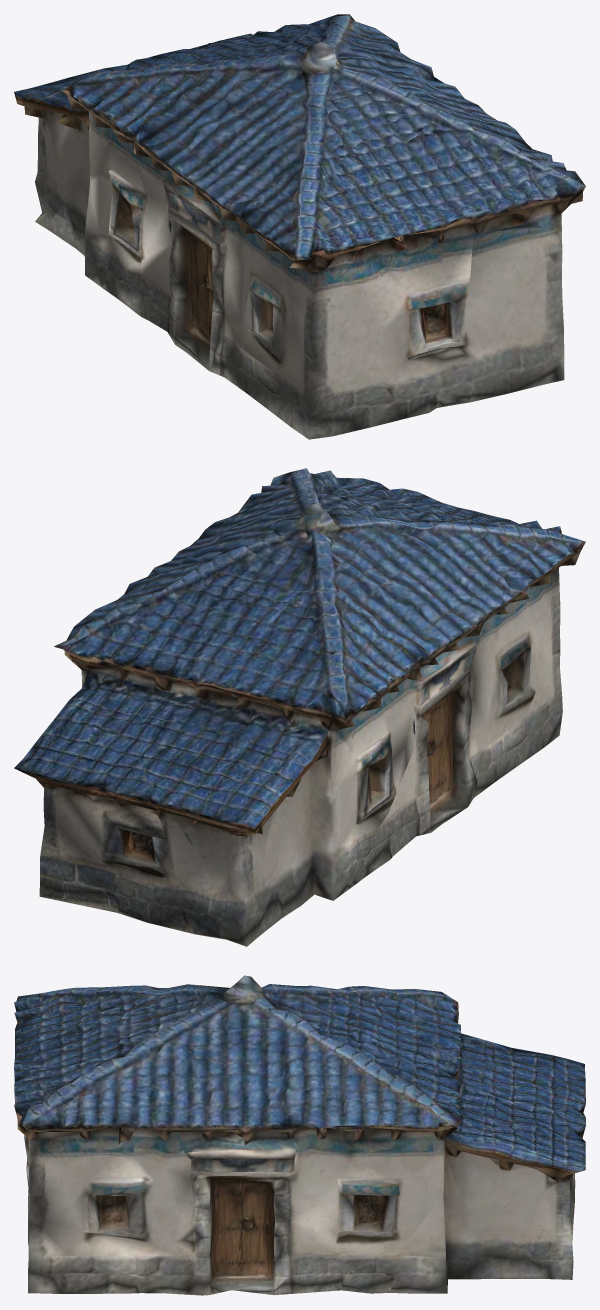
Rendered from house_generic_d.glb.
3 renders of one model, top to bottom at view 1: azimuth 30°, elevation 25°; view 2: azimuth 150°, elevation 25°; view 3: azimuth 270°, elevation 25°, orthographic. The views are drawn at different scales.
Parts seen in each view (by area): view 1: tripo_node_da5bad59-9eec-423f-bd8d-223ee4fc1f99; view 2: tripo_node_da5bad59-9eec-423f-bd8d-223ee4fc1f99; view 3: tripo_node_da5bad59-9eec-423f-bd8d-223ee4fc1f99.
Boxes of the visible parts, x1,y1,x2,y2 form: tripo_node_da5bad59-9eec-423f-bd8d-223ee4fc1f99: (14, 14, 585, 439); tripo_node_da5bad59-9eec-423f-bd8d-223ee4fc1f99: (14, 468, 585, 946); tripo_node_da5bad59-9eec-423f-bd8d-223ee4fc1f99: (14, 975, 585, 1295).
Bounding box in the file's own units: 0.5392 × 0.4921 × 0.9774.
1 material, 1 textured.
